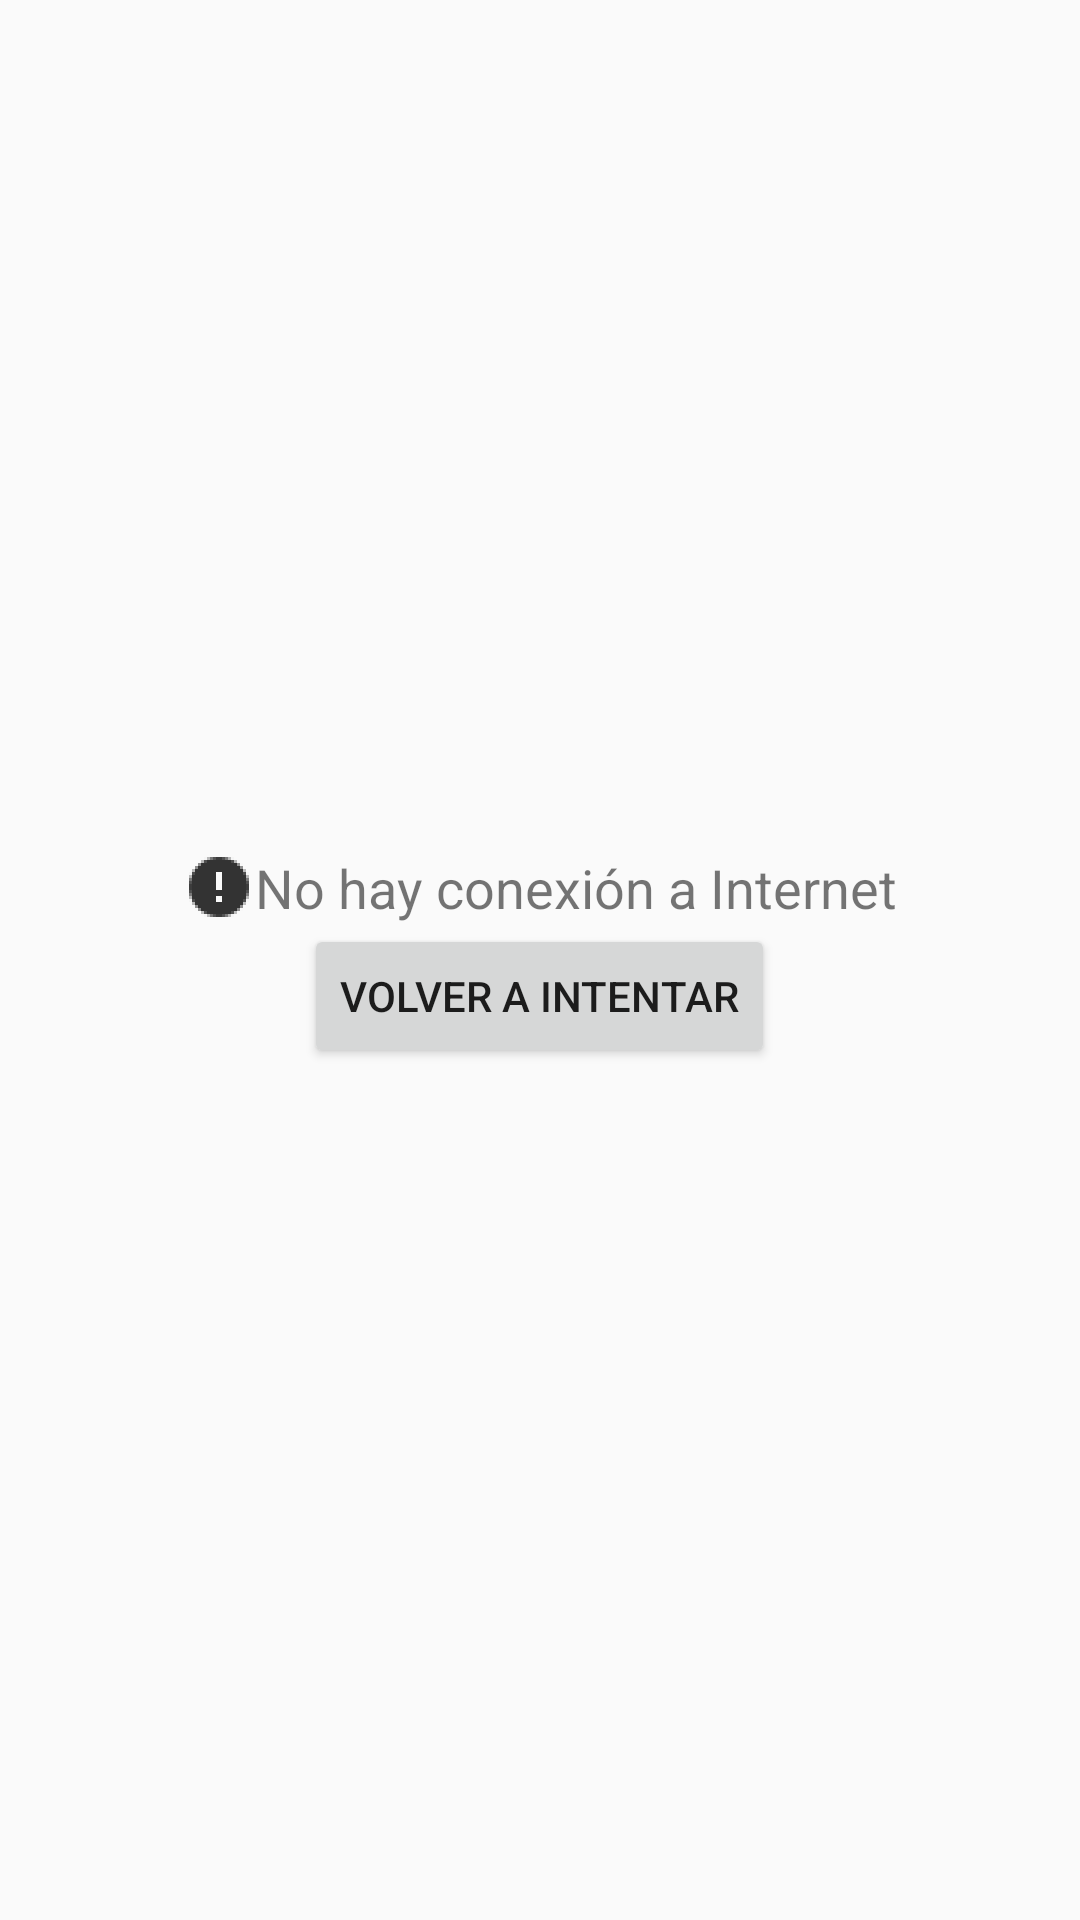

Where icons sit on this 1080x1920 app screen, as (x1, y1, x2, y2):
warning: (189, 857, 249, 917)
